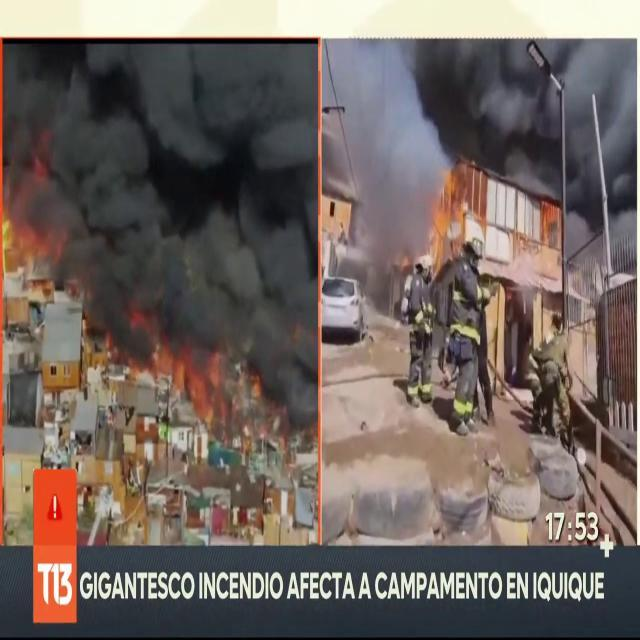Fire: (112, 326, 234, 426), (419, 167, 477, 277)
Smoke: (4, 41, 318, 360), (372, 23, 638, 221)
